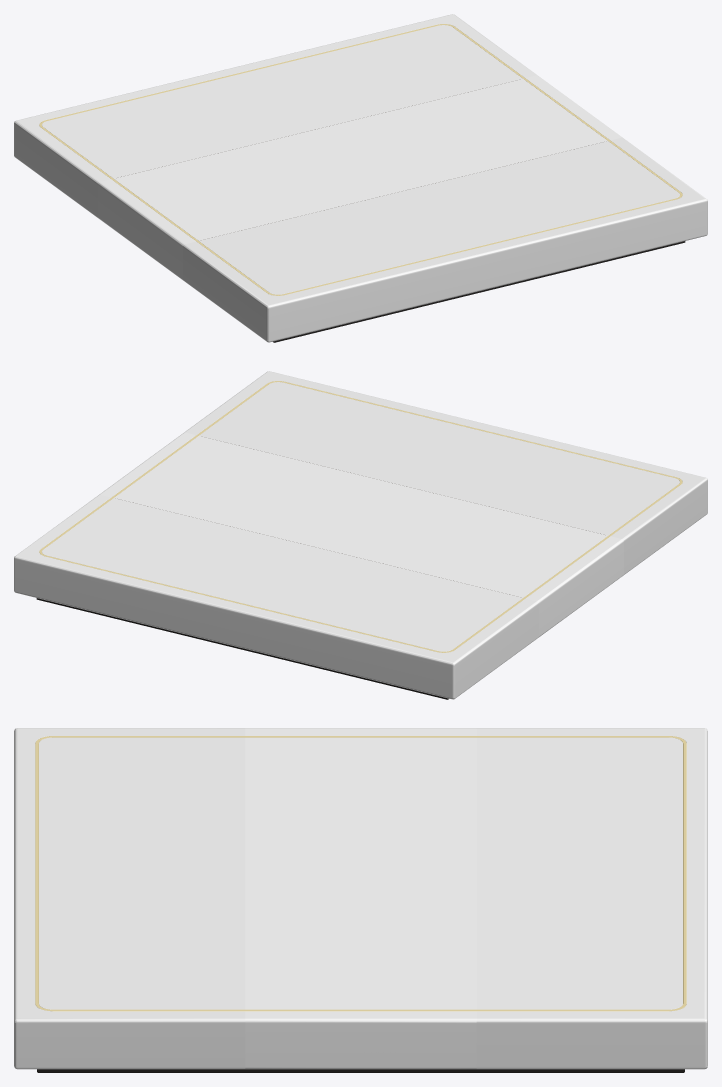
The picture shows the model from 3 angles, top to bottom: view 1: azimuth 30°, elevation 25°; view 2: azimuth 150°, elevation 25°; view 3: azimuth 270°, elevation 25°; orthographic projection. The views are drawn at different scales.
Parts seen in each view (by area): view 1: Walnut slab • 600 × 600 × 48 mm, Fixed / Brushed pale brass, Fixed / Ebonised shadow-gap base; view 2: Walnut slab • 600 × 600 × 48 mm, Fixed / Brushed pale brass, Fixed / Ebonised shadow-gap base; view 3: Walnut slab • 600 × 600 × 48 mm, Fixed / Brushed pale brass, Fixed / Ebonised shadow-gap base.
Part boxes in pixels (x1=…): Walnut slab • 600 × 600 × 48 mm: x1=14, y1=14, x2=707, y2=342; Fixed / Brushed pale brass: x1=39, y1=24, x2=682, y2=295; Fixed / Ebonised shadow-gap base: x1=273, y1=241, x2=685, y2=342; Walnut slab • 600 × 600 × 48 mm: x1=14, y1=371, x2=707, y2=699; Fixed / Brushed pale brass: x1=39, y1=381, x2=682, y2=652; Fixed / Ebonised shadow-gap base: x1=36, y1=598, x2=448, y2=699; Walnut slab • 600 × 600 × 48 mm: x1=14, y1=728, x2=707, y2=1069; Fixed / Brushed pale brass: x1=35, y1=736, x2=686, y2=1011; Fixed / Ebonised shadow-gap base: x1=37, y1=1069, x2=684, y2=1072.
Size of the model in its own units: 0.6 by 0.064 by 0.6.
